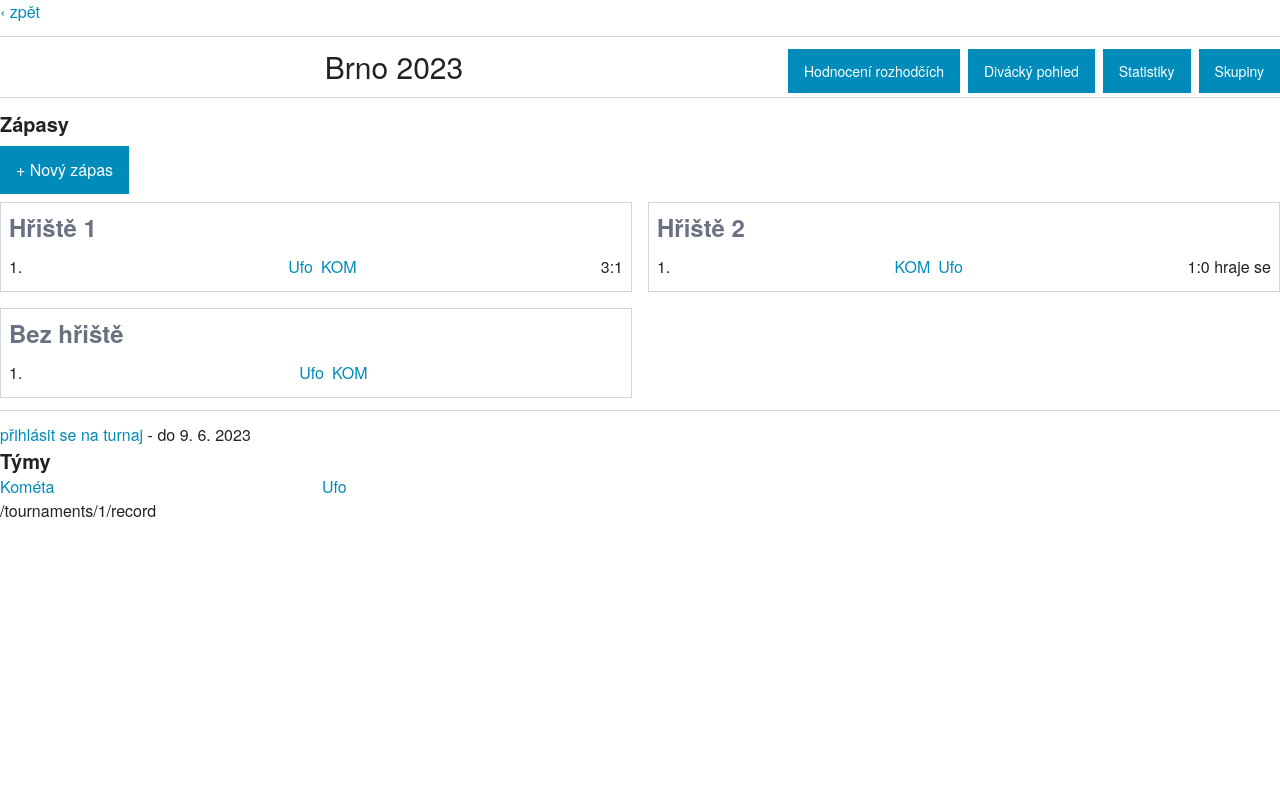
Test: add match dialog explains missing fields without a request
The image size is (1280, 800).
Click the button "+ Nový zápas".
click(65, 170)  # box left=0, top=146, right=129, bottom=194
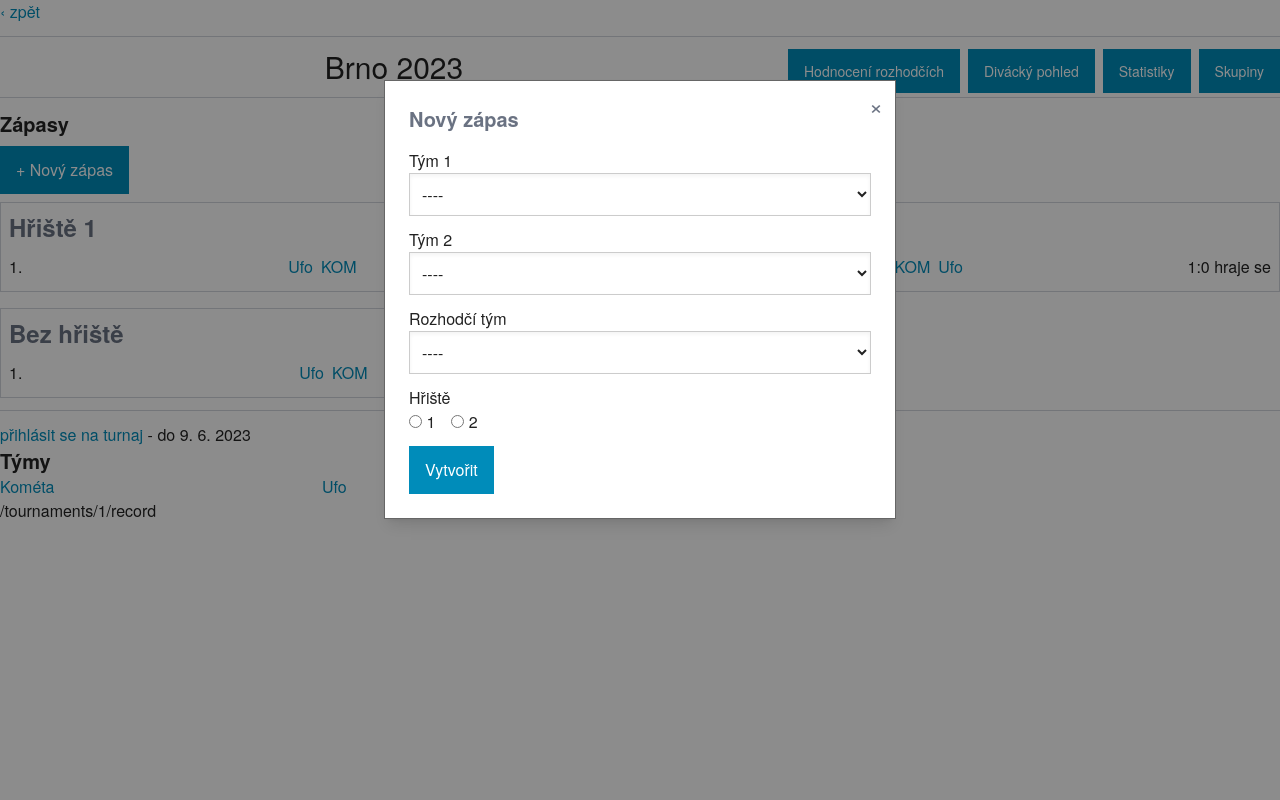
Select "Ufo" in the dropdown labelled "Tým 1" at [640, 194], box left=409, top=173, right=871, bottom=216
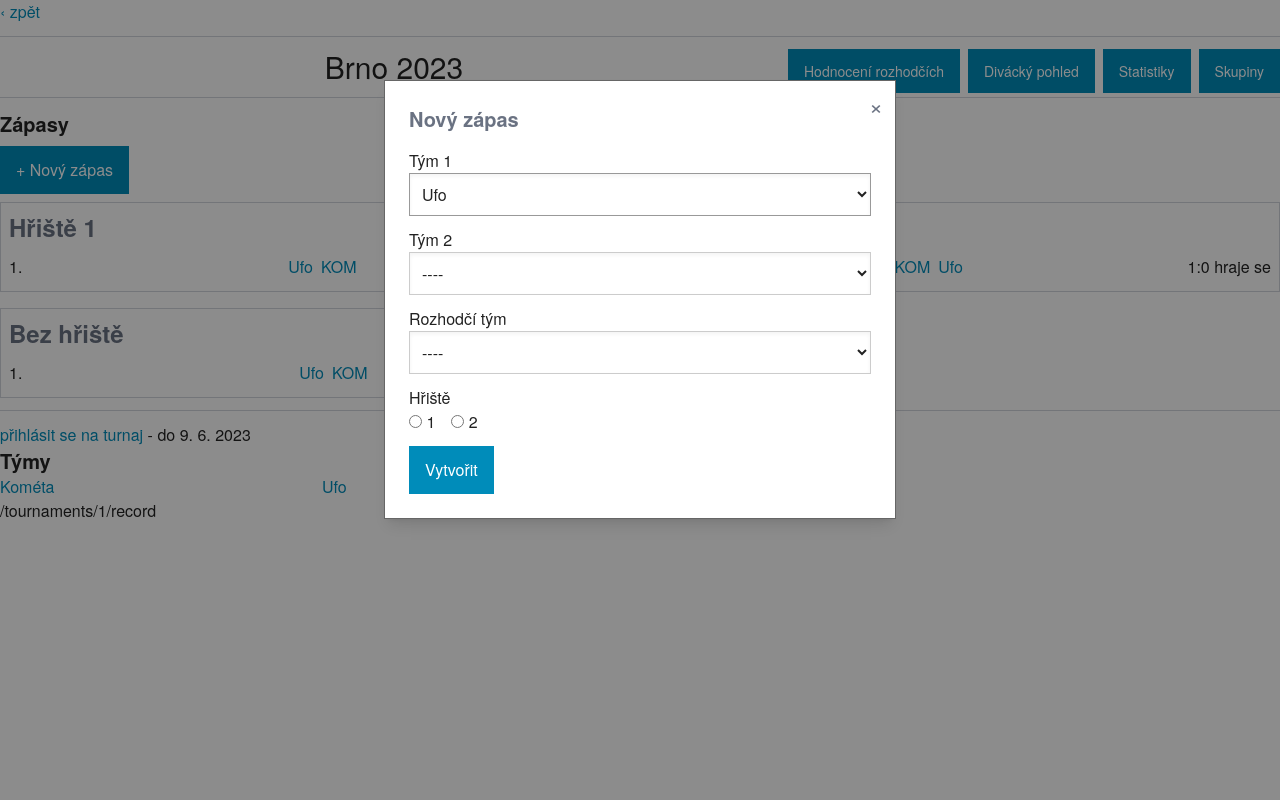
Click the button "Vytvořit".
click(451, 470)  # box left=409, top=446, right=494, bottom=494
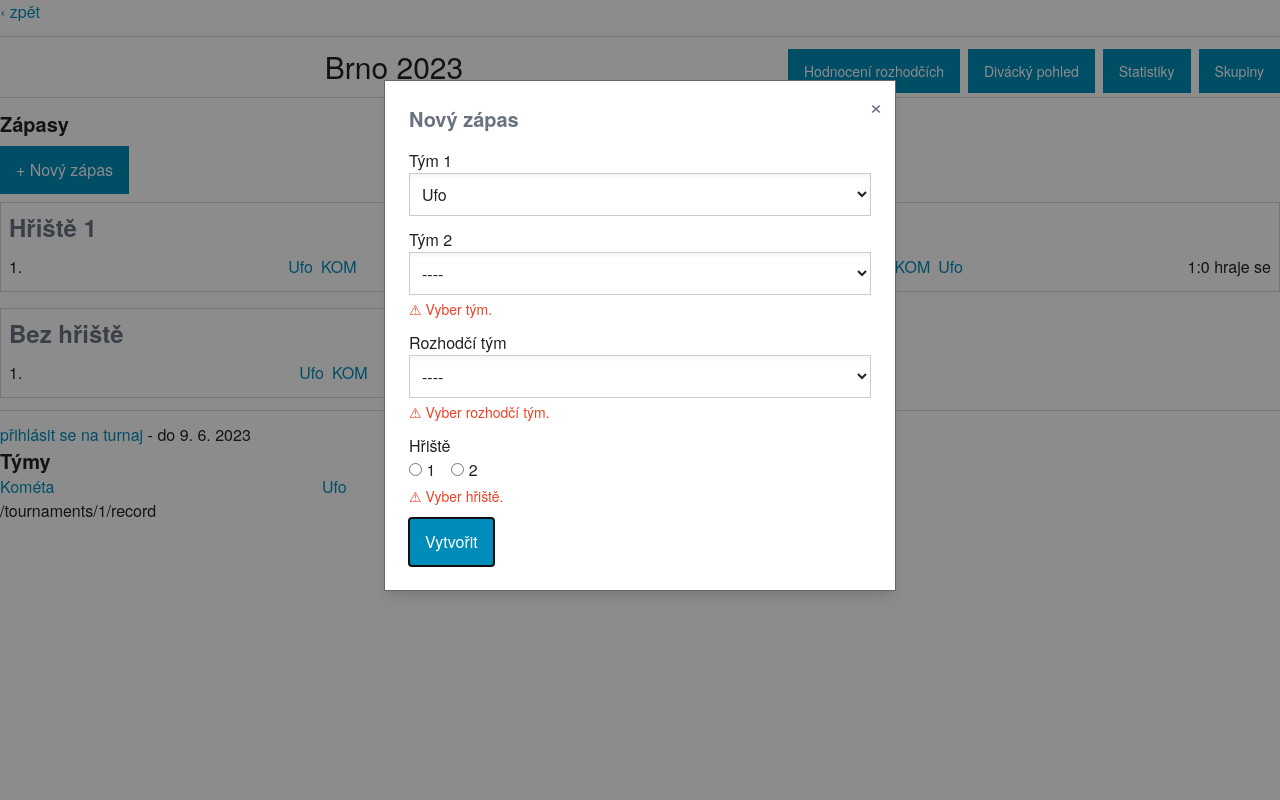
Expected: the text "⚠ Vyber tým." is shown, left=409, top=299, right=492, bottom=319
Expected: the text "⚠ Vyber rozhodčí tým." is shown, left=409, top=402, right=550, bottom=422
Expected: the text "⚠ Vyber hřiště." is shown, left=409, top=486, right=504, bottom=506
